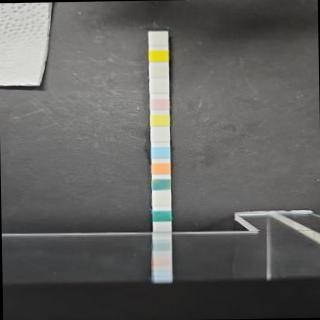mark: (149, 80, 169, 94), (151, 177, 171, 191), (148, 49, 168, 62), (151, 162, 170, 175), (148, 34, 168, 46), (149, 66, 169, 78), (150, 98, 170, 110), (150, 114, 170, 126), (150, 130, 170, 142), (152, 210, 171, 222), (151, 194, 171, 205), (152, 146, 170, 158)
